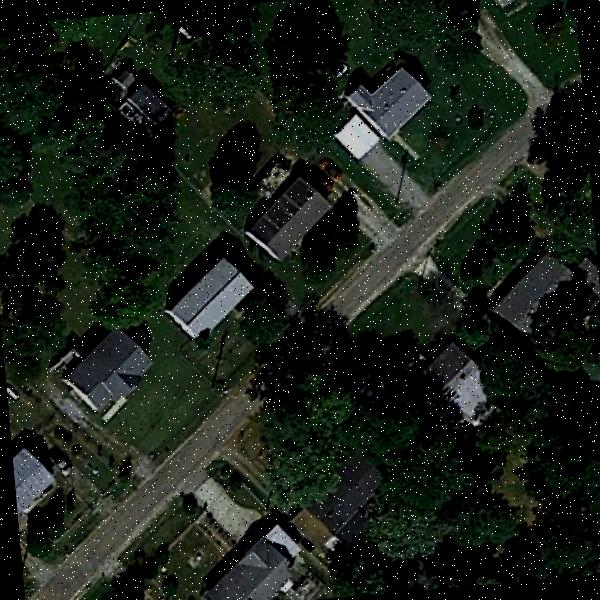Buildings: (66, 332, 152, 412), (202, 536, 309, 600), (352, 68, 426, 150), (256, 185, 331, 245), (498, 256, 562, 322), (175, 271, 236, 337), (320, 464, 380, 522), (12, 444, 64, 508), (427, 358, 484, 402)
